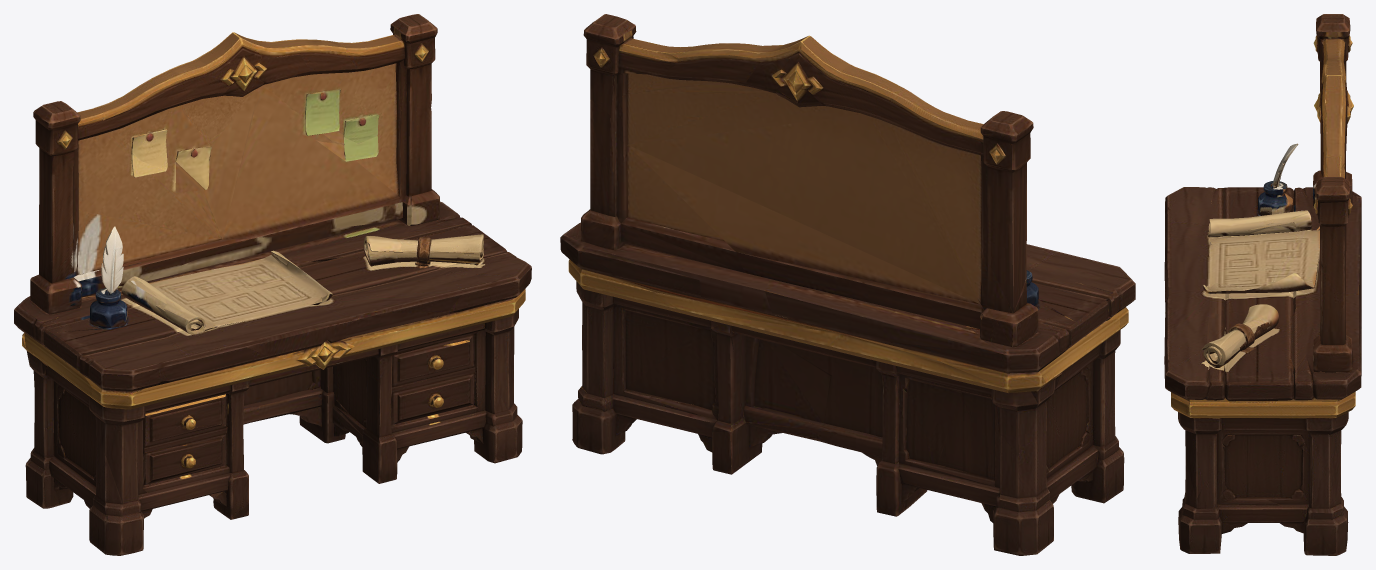
Rendered from workbench-planner.glb.
3 renders of one model, left to right at view 1: azimuth 30°, elevation 25°; view 2: azimuth 150°, elevation 25°; view 3: azimuth 270°, elevation 25°, orthographic. The views are drawn at different scales.
Parts seen in each view (by area): view 1: output_unwrapped; view 2: output_unwrapped; view 3: output_unwrapped.
Part boxes in pixels (<box>): output_unwrapped: <box>14,14,531,555</box>; output_unwrapped: <box>560,14,1135,555</box>; output_unwrapped: <box>1164,14,1361,555</box>.
Bounding box in the file's own units: 1.9 × 1.73 × 0.8008.
1 material, 1 textured.
